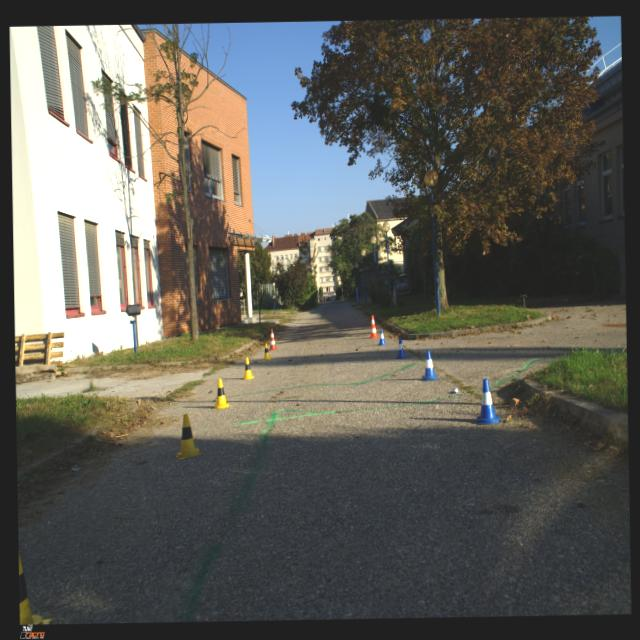blue_cone: (474, 378, 501, 423), (420, 349, 438, 380), (394, 336, 406, 358), (378, 328, 386, 346)
large_orange_cone: (268, 328, 278, 351), (369, 314, 378, 338)
yellow_cone: (18, 550, 52, 624), (175, 413, 201, 459), (211, 378, 231, 408), (241, 358, 254, 380), (262, 343, 272, 360)
